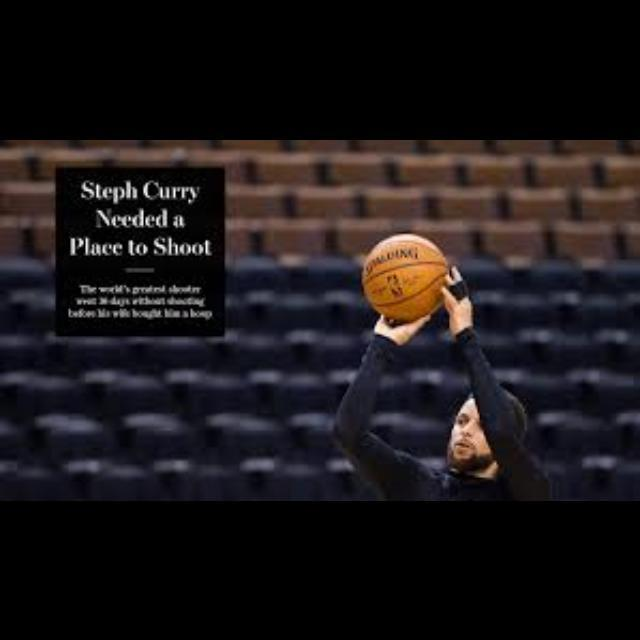basketball: (365, 235, 445, 319)
